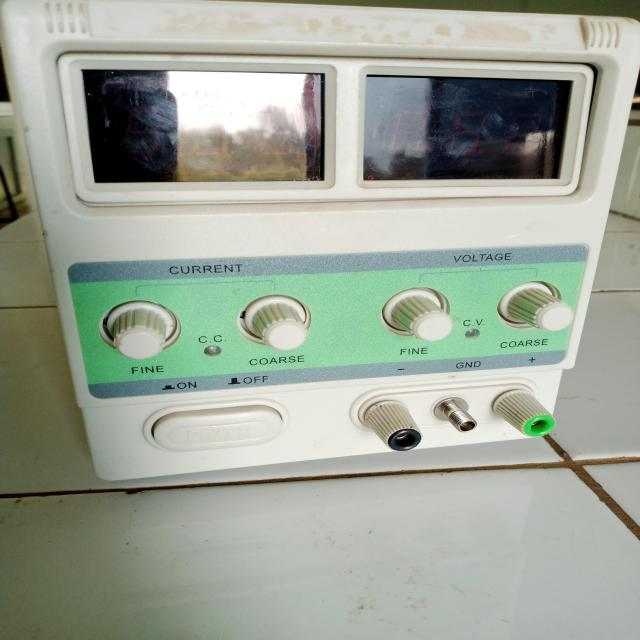Digital Power Supply: (14, 22, 629, 486)
